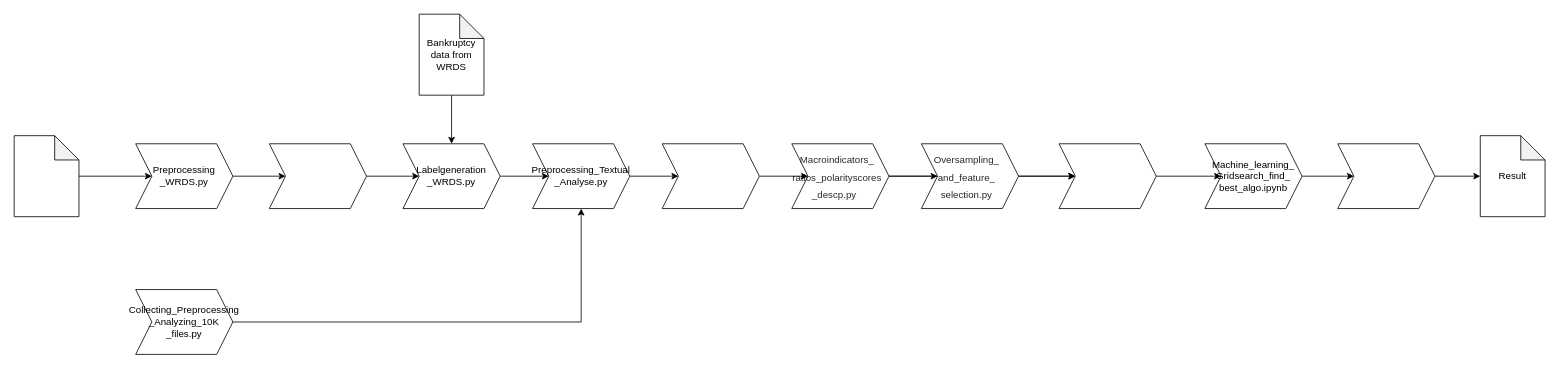
The diagram is 1559 pixels wide and 369 high, and some of its shapes have lost their labels. The shapes that lost their labels are listed below. From the top down, each one's centre as x and y in pixels, then its label:
the point at 46,176: Company data from WRDS
the point at 318,176: Ratios_and _macrodata.py
the point at 710,176: Comapny_Descriptive _Statistics.py
the point at 1107,176: Outlier_ detection.py
the point at 1386,176: Train_final _algorithm.py
